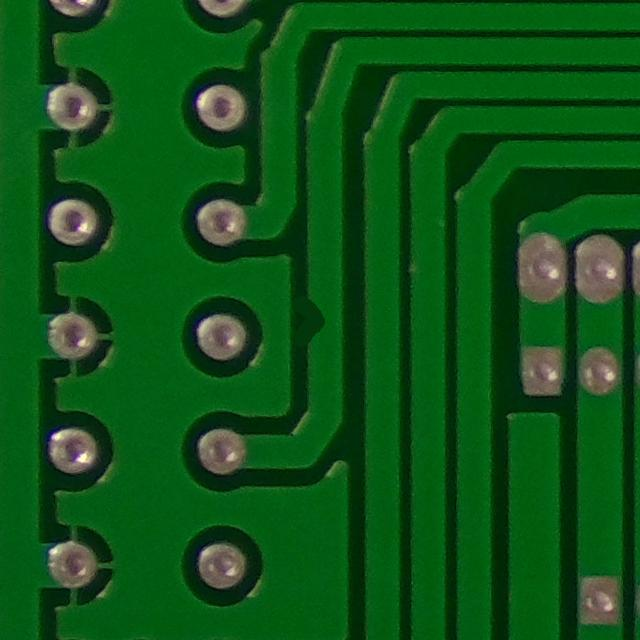mouse_bite: (291, 281, 349, 359)
